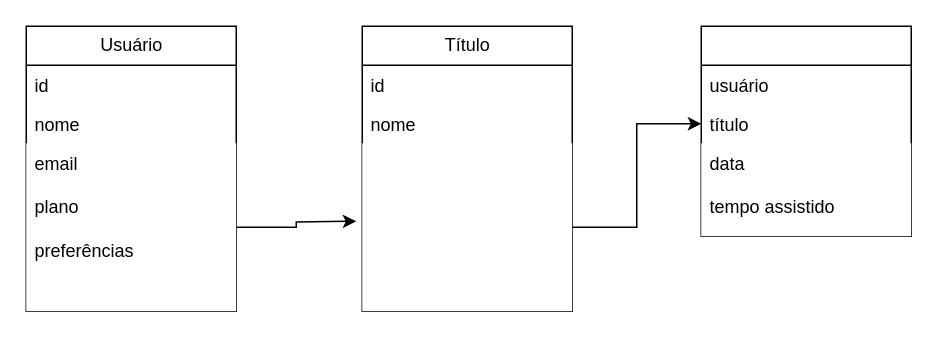
This 938x342 diagram has some shape labels left out. The box of each missing label's shape, as (x1, y1, x2, y2) in pixels:
gênero classificação duração: (362, 142, 572, 310)
Histórico: (700, 25, 911, 236)
